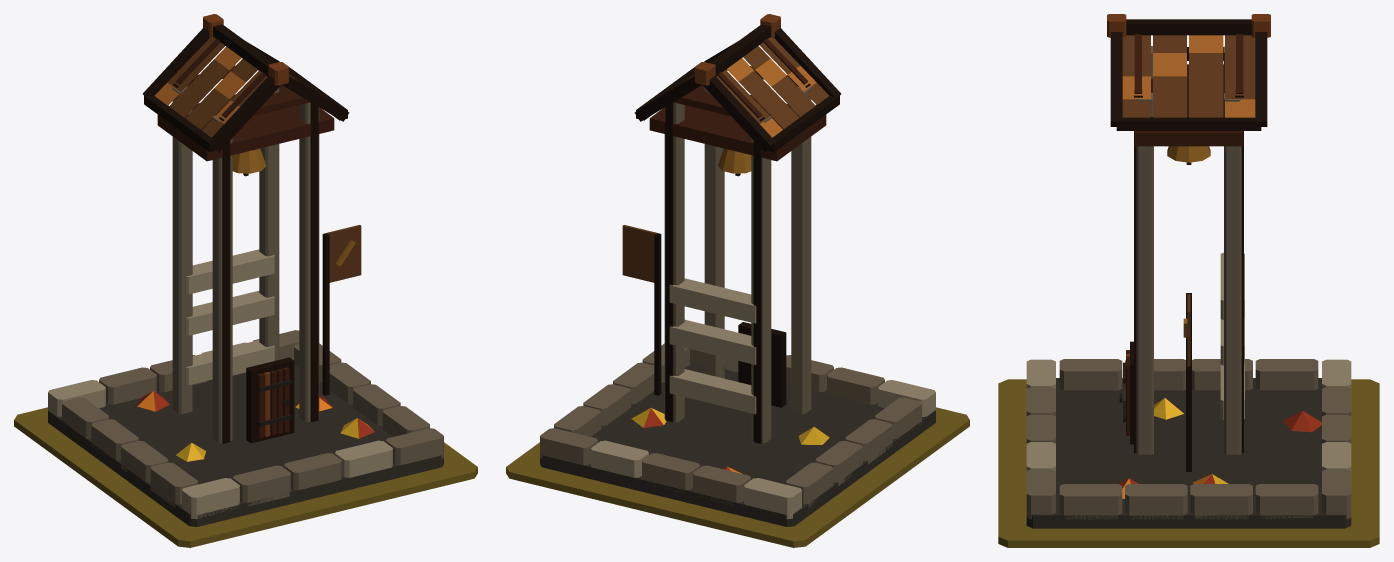
Rendered from bell-tower_t6.glb.
3 views of the same model, side by side, from view 1: azimuth 30°, elevation 25°; view 2: azimuth 150°, elevation 25°; view 3: azimuth 270°, elevation 25° (orthographic). The views are drawn at different scales.
Visible parts, largest first — view 1: MMR | bell-tower | T06 Architecture.001, MMR | bell-tower | Tier 06 Ground.001, MMR | bell-tower | T06 Banner Flag 1.001, MMR | bell-tower | T06 Autumn Dressing.001, MMR | bell-tower | T06 Bell.001; view 2: MMR | bell-tower | T06 Architecture.001, MMR | bell-tower | Tier 06 Ground.001, MMR | bell-tower | T06 Banner Flag 1.001, MMR | bell-tower | T06 Autumn Dressing.001, MMR | bell-tower | T06 Bell.001; view 3: MMR | bell-tower | T06 Architecture.001, MMR | bell-tower | Tier 06 Ground.001, MMR | bell-tower | T06 Autumn Dressing.001, MMR | bell-tower | T06 Bell.001.
Boxes of the visible parts, x1=… form: MMR | bell-tower | T06 Architecture.001: x1=48, y1=14, x2=443, y2=526; MMR | bell-tower | Tier 06 Ground.001: x1=14, y1=407, x2=477, y2=547; MMR | bell-tower | T06 Banner Flag 1.001: x1=327, y1=225, x2=361, y2=282; MMR | bell-tower | T06 Autumn Dressing.001: x1=137, y1=391, x2=374, y2=461; MMR | bell-tower | T06 Bell.001: x1=232, y1=148, x2=266, y2=173; MMR | bell-tower | T06 Architecture.001: x1=540, y1=14, x2=935, y2=526; MMR | bell-tower | Tier 06 Ground.001: x1=506, y1=407, x2=969, y2=547; MMR | bell-tower | T06 Banner Flag 1.001: x1=622, y1=225, x2=656, y2=282; MMR | bell-tower | T06 Autumn Dressing.001: x1=631, y1=389, x2=829, y2=473; MMR | bell-tower | T06 Bell.001: x1=717, y1=148, x2=751, y2=173; MMR | bell-tower | T06 Architecture.001: x1=1026, y1=14, x2=1351, y2=528; MMR | bell-tower | Tier 06 Ground.001: x1=998, y1=379, x2=1379, y2=547; MMR | bell-tower | T06 Autumn Dressing.001: x1=1118, y1=398, x2=1321, y2=498; MMR | bell-tower | T06 Bell.001: x1=1167, y1=146, x2=1210, y2=162.
Size of the model in its own units: 2.35 by 3.06 by 2.35.
Materials: 1 (1 with a texture image).
